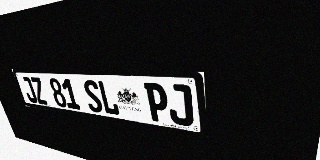1: (59, 79, 81, 110)
8: (48, 78, 68, 108)
J: (166, 84, 194, 127), (20, 77, 38, 103)
L: (97, 80, 120, 116)
P: (144, 83, 170, 123)
S: (82, 80, 104, 113)
Z: (29, 77, 48, 105)
